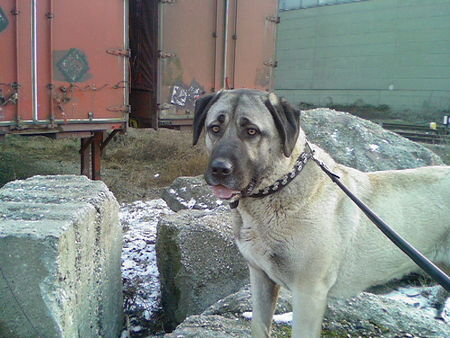kangal: (192, 87, 450, 338)
